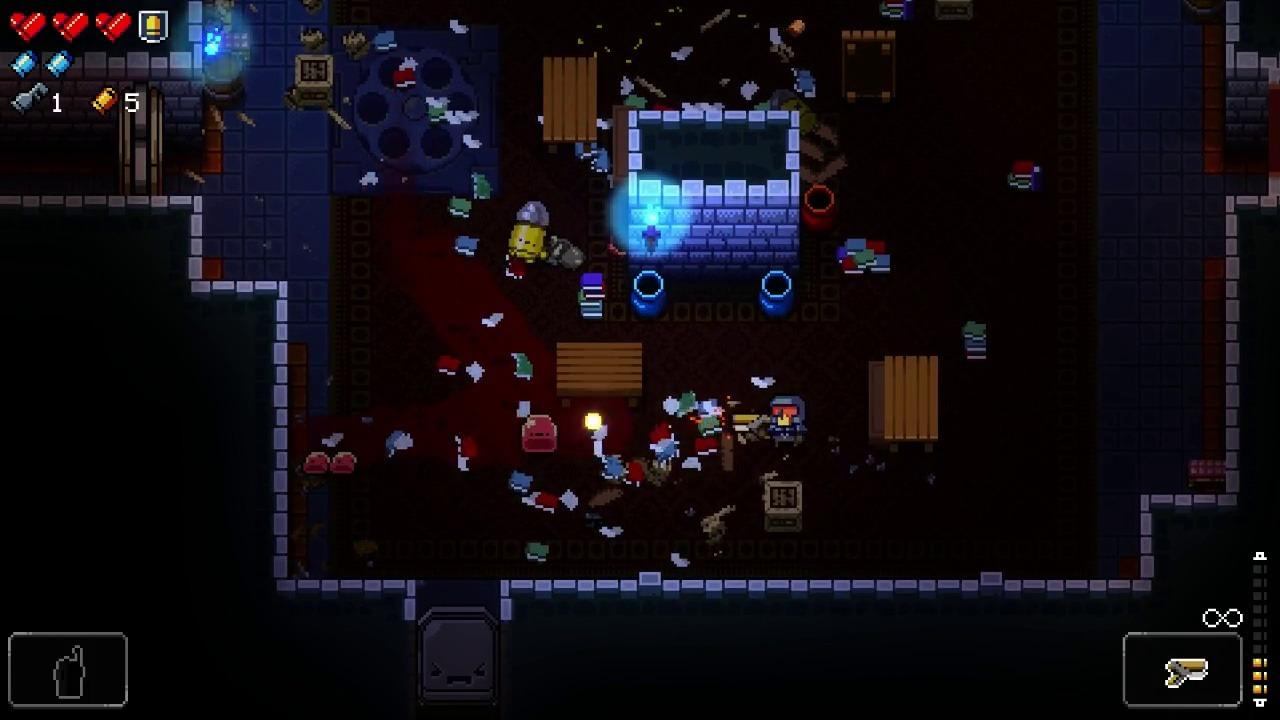blobulin_s: (303, 450, 330, 475), (331, 450, 356, 476)
blobuloid_m: (521, 414, 559, 454)
bullet_kin: (506, 201, 549, 266)
locked_door: (418, 607, 498, 708), (119, 80, 163, 197)
player: (770, 396, 806, 450)
table: (556, 341, 644, 409), (884, 357, 940, 453), (543, 57, 597, 153), (840, 30, 899, 105)
teleporter: (327, 26, 500, 196)
wall: (628, 109, 800, 276)
